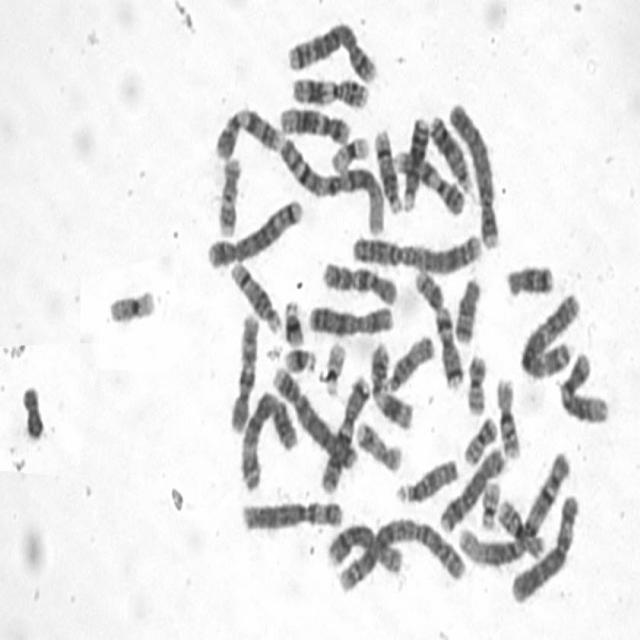A1: (452, 444, 573, 570), (274, 129, 386, 235)
A2: (330, 510, 468, 594), (347, 223, 485, 275)
A3: (236, 384, 300, 493), (516, 284, 582, 381)
B4: (268, 358, 360, 473), (444, 93, 502, 250)
B5: (203, 190, 305, 270), (282, 14, 379, 85)
C10: (223, 305, 260, 435), (318, 254, 400, 308)
C11: (366, 335, 415, 432), (287, 69, 370, 110)
C12: (555, 344, 612, 426), (274, 97, 352, 145)
C6: (504, 487, 580, 605), (236, 492, 345, 534)
C7: (409, 260, 465, 391), (316, 368, 373, 496)
C8: (436, 439, 507, 534), (322, 516, 405, 578)
C9: (390, 142, 466, 216), (210, 99, 284, 162)
D13: (425, 106, 475, 192), (398, 110, 432, 211)
D14: (226, 254, 283, 335), (369, 121, 404, 214)
D15: (390, 451, 460, 505), (382, 327, 437, 393)
E16: (492, 490, 546, 560), (492, 369, 524, 461)
E17: (351, 414, 404, 474), (213, 148, 243, 239)
E18: (450, 270, 483, 346), (501, 256, 556, 299)
F19: (104, 281, 158, 326), (326, 128, 372, 174)
F20: (459, 409, 499, 467), (461, 346, 489, 416)
G21: (279, 292, 306, 348), (279, 341, 318, 375)
G22: (319, 333, 348, 399), (476, 473, 502, 532)
X: (304, 296, 396, 338)
Y: (17, 376, 47, 442)
